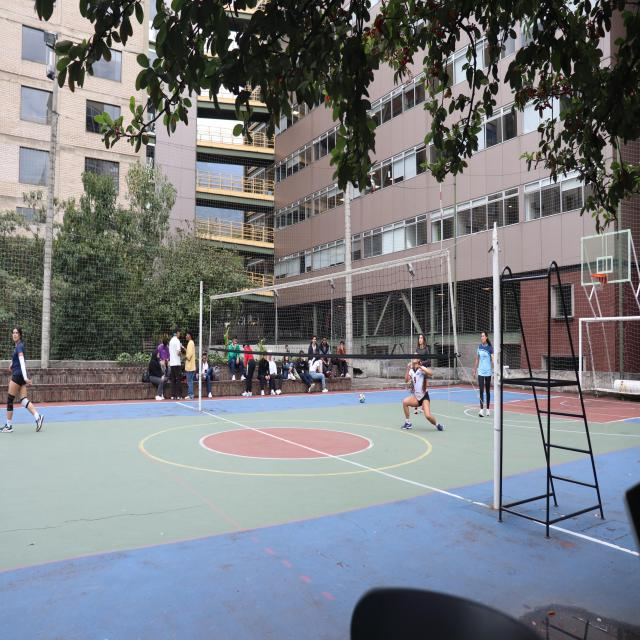volleyball: (366, 179, 376, 193), (358, 393, 365, 402)
